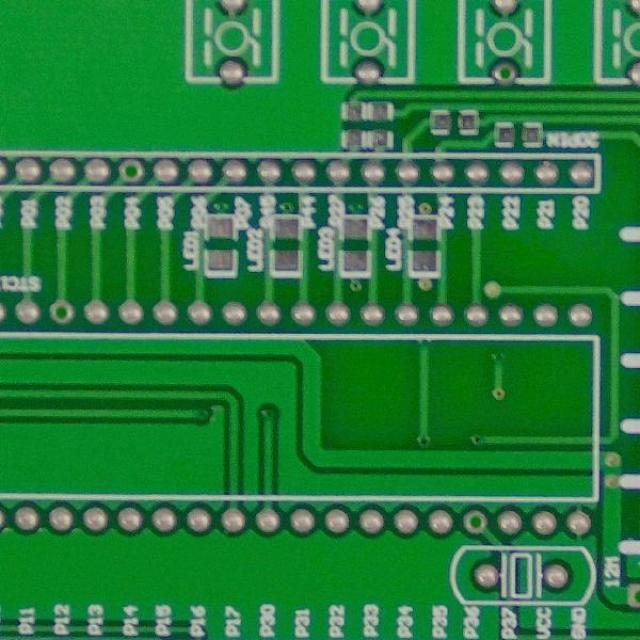Missing_Hole: (48, 298, 77, 326), (460, 510, 490, 536), (115, 158, 145, 184), (490, 62, 520, 87), (623, 582, 640, 612)
